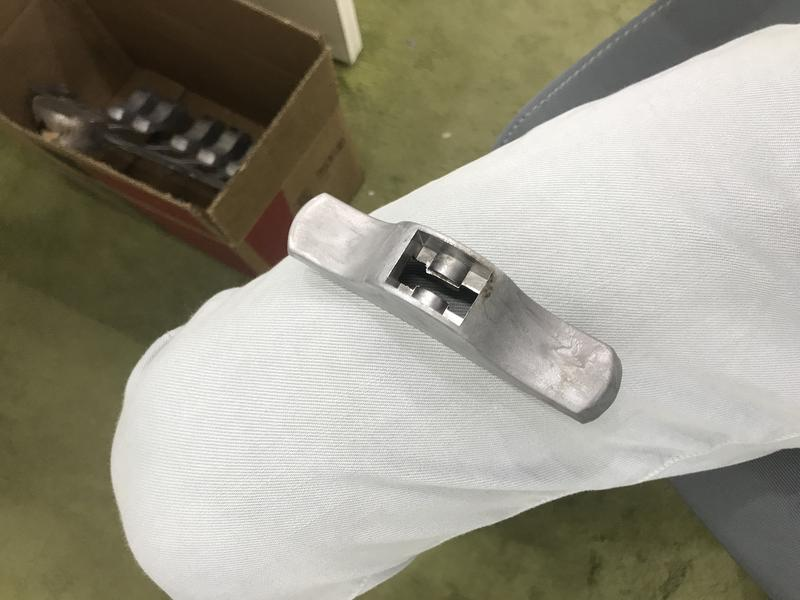zapchast: (275, 181, 635, 446)
